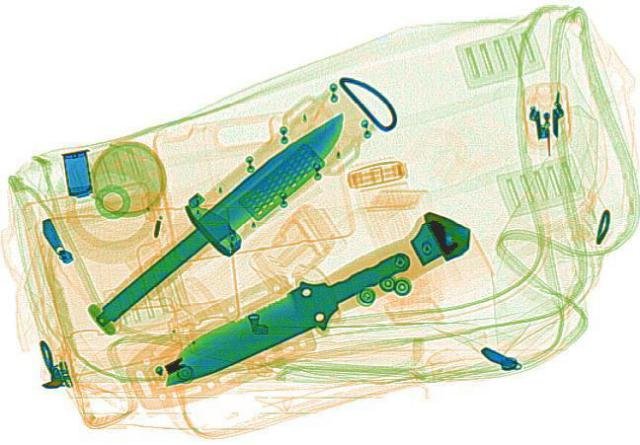Knife: (76, 104, 364, 331), (135, 236, 431, 399)
